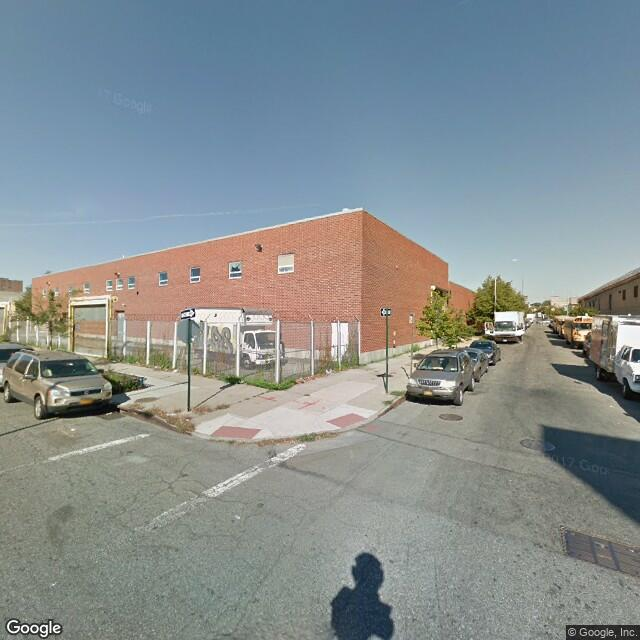litter: (153, 363, 163, 376), (101, 410, 112, 420), (323, 367, 332, 377), (172, 366, 181, 376), (107, 359, 118, 367), (67, 426, 78, 433), (116, 408, 126, 414)
